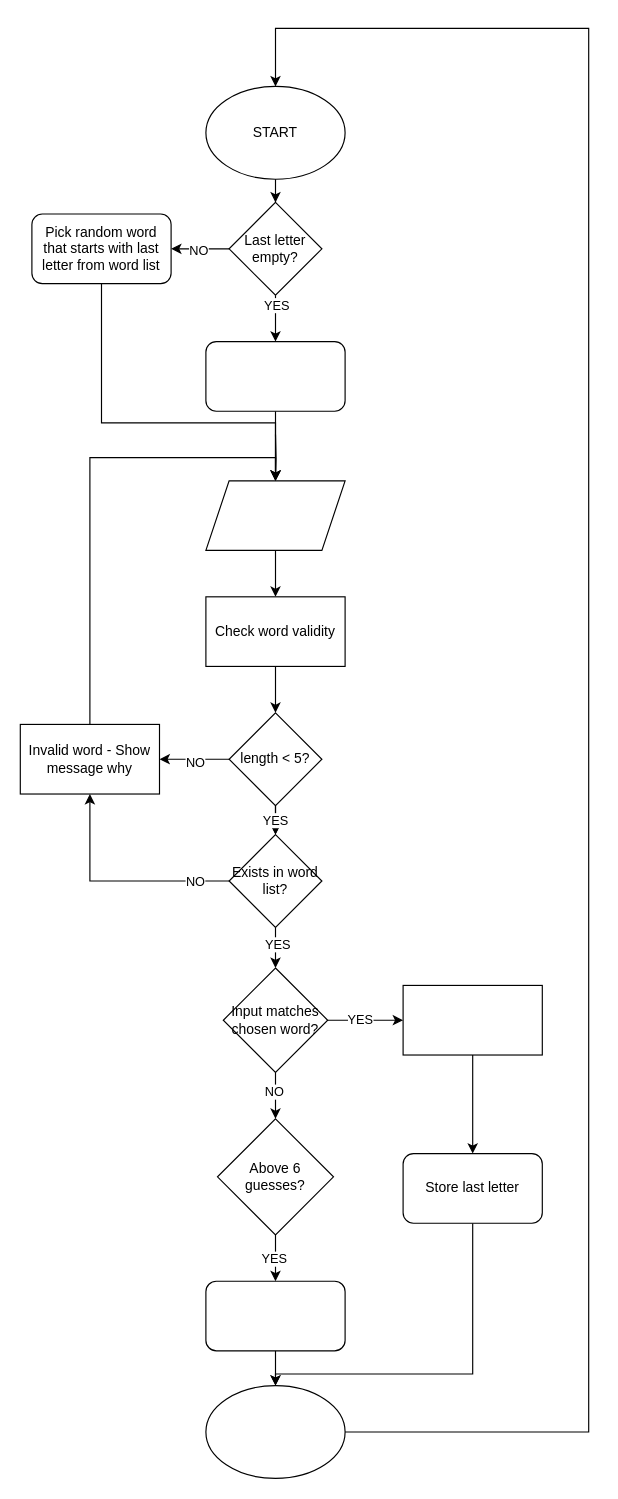
The diagram is 618 pixels wide and 1499 high, and some of its shapes have lost their labels. The centre of each missing label's shape, as x and y in pixels:
"END" belongs at pixel 275 1431.
"Enter 5 letter word" belongs at pixel 275 515.
"Game over! User ran out of guesses" belongs at pixel 275 1315.
"Pick random word from entire word list" belongs at pixel 275 375.
"User won!" belongs at pixel 472 1019.
